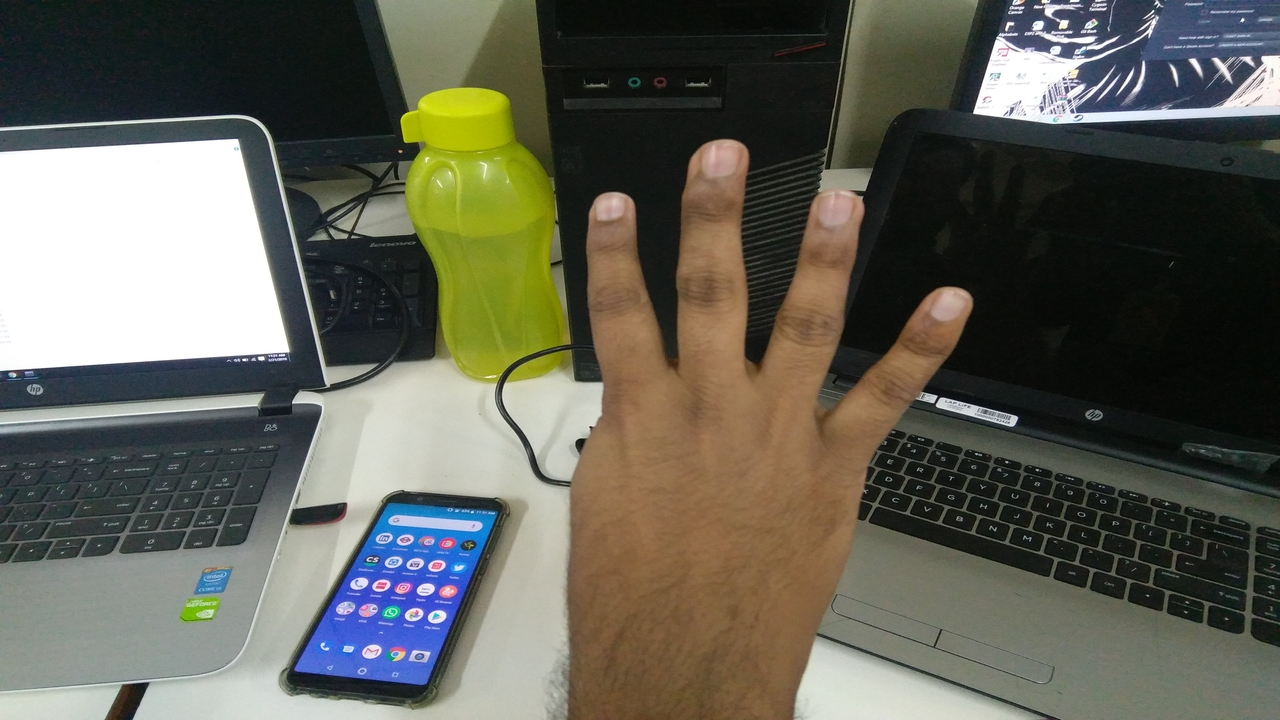fingertip: (680, 136, 760, 196), (910, 278, 986, 338), (798, 184, 864, 246), (580, 186, 644, 242)
